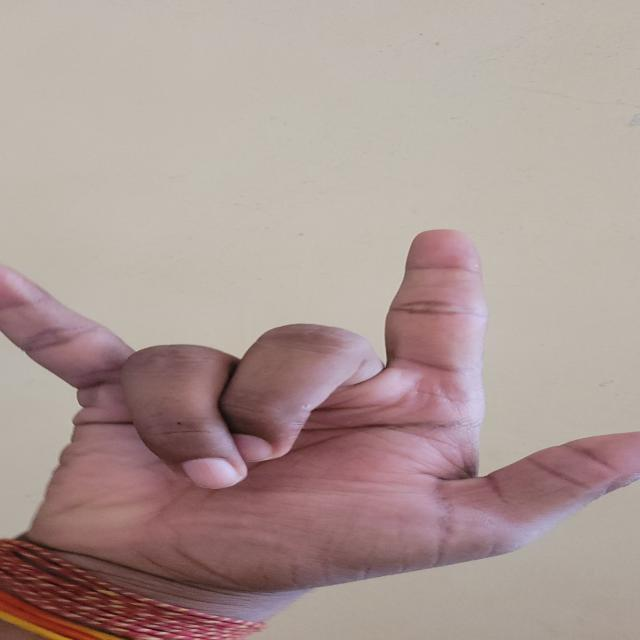i like you: (1, 206, 640, 640)
